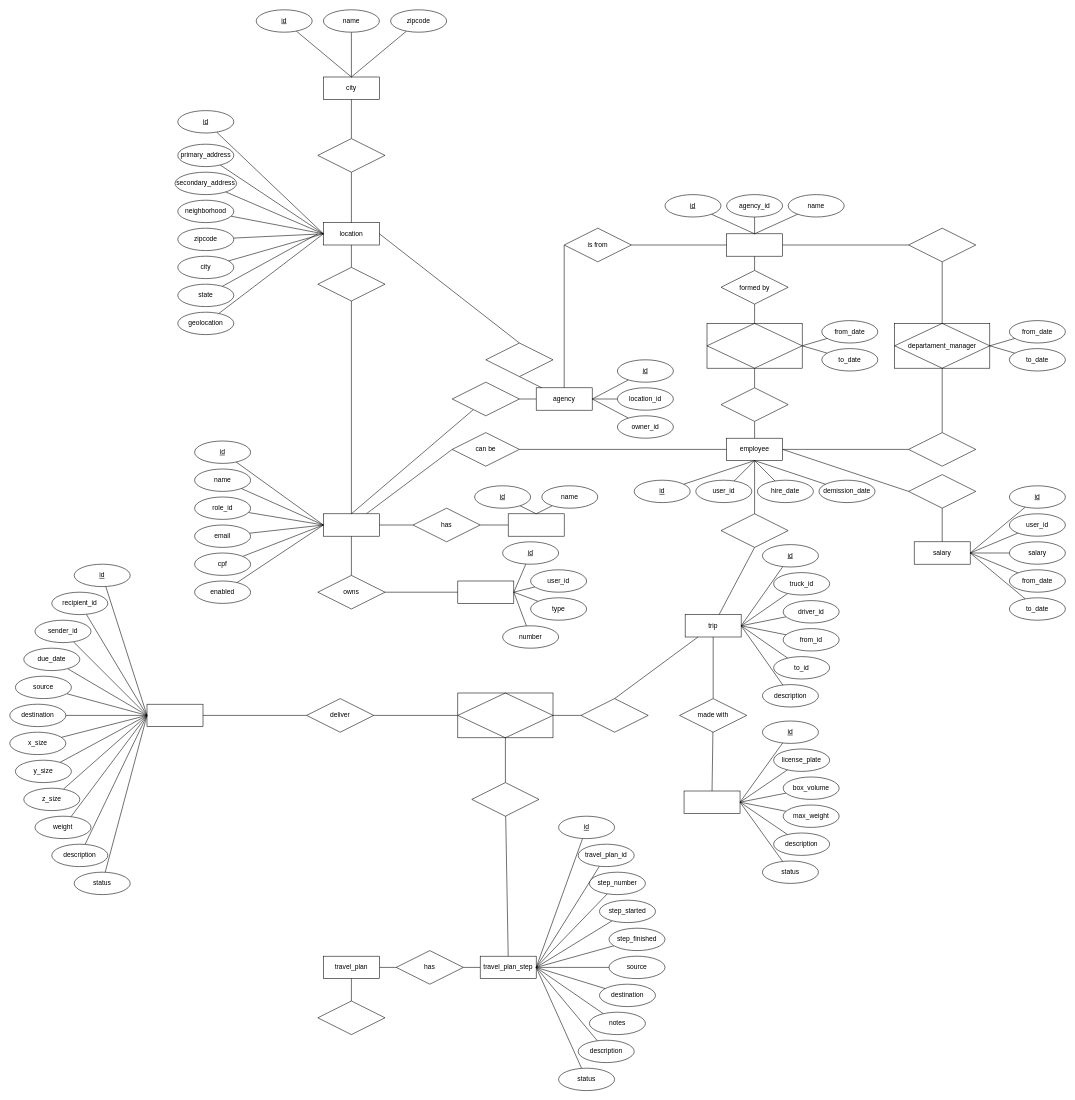
The diagram is 1075 pixels wide and 1100 high, and some of its shapes have lost their labels. Here are the shapes that lost their labels. From the top down, the centre of each, then its label:
At point 351,155: "is in".
At point 754,244: "department".
At point 942,245: "managed by".
At point 351,284: "lives on".
At point 519,359: "located in".
At point 754,345: "employee_department".
At point 485,399: "owned by".
At point 754,404: "work in".
At point 942,449: "manage".
At point 942,491: "receives".
At point 351,524: "user".
At point 536,524: "role".
At point 754,530: "made".
At point 485,591: "contact_phone".
At point 174,715: "package".
At point 505,715: "trip_packages".
At point 614,715: "move".
At point 505,799: "complete".
At point 711,801: "truck".
At point 351,1017: "sent using".
